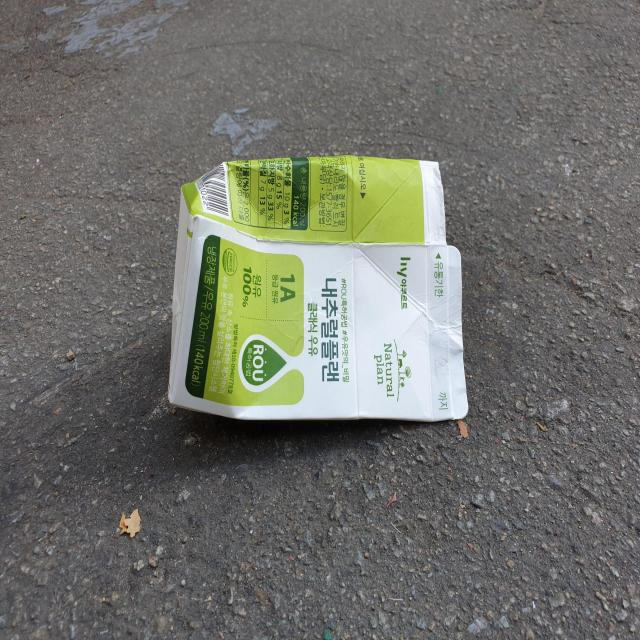paperpack: (167, 155, 469, 421)
